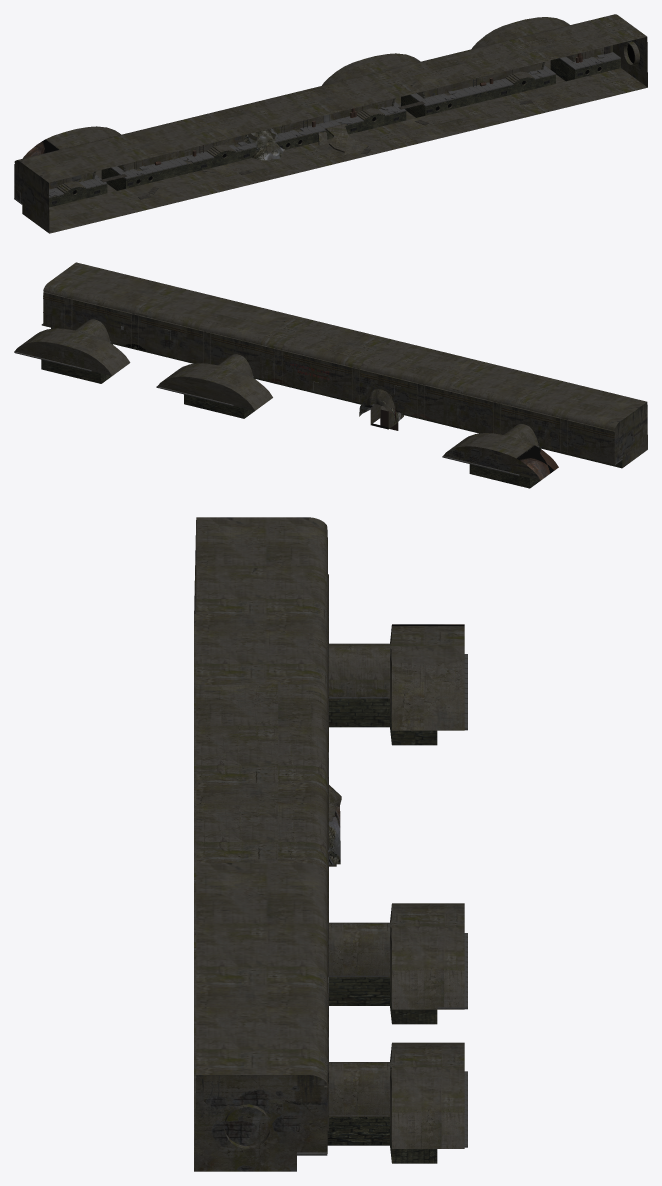
File: LocationKanalizac.FBX
The picture shows the model from 3 angles, top to bottom: view 1: azimuth 30°, elevation 25°; view 2: azimuth 150°, elevation 25°; view 3: azimuth 270°, elevation 25°; orthographic projection. The views are drawn at different scales.
Parts seen in each view (by area): view 1: 3Mesh, 1Mesh, 2Mesh; view 2: 3Mesh, 1Mesh, 2Mesh; view 3: 3Mesh, 1Mesh, 2Mesh.
Part boxes in pixels (x1=…): 3Mesh: x1=322, y1=14, x2=647, y2=143; 1Mesh: x1=14, y1=116, x2=228, y2=233; 2Mesh: x1=193, y1=70, x2=419, y2=189; 3Mesh: x1=14, y1=262, x2=292, y2=418; 1Mesh: x1=442, y1=360, x2=647, y2=488; 2Mesh: x1=259, y1=315, x2=475, y2=430; 3Mesh: x1=194, y1=863, x2=467, y2=1171; 1Mesh: x1=194, y1=517, x2=467, y2=781; 2Mesh: x1=194, y1=684, x2=341, y2=959.
Size of the model in its own units: 431 by 46.99 by 88.96.
Materials: 3 (3 with a texture image).
